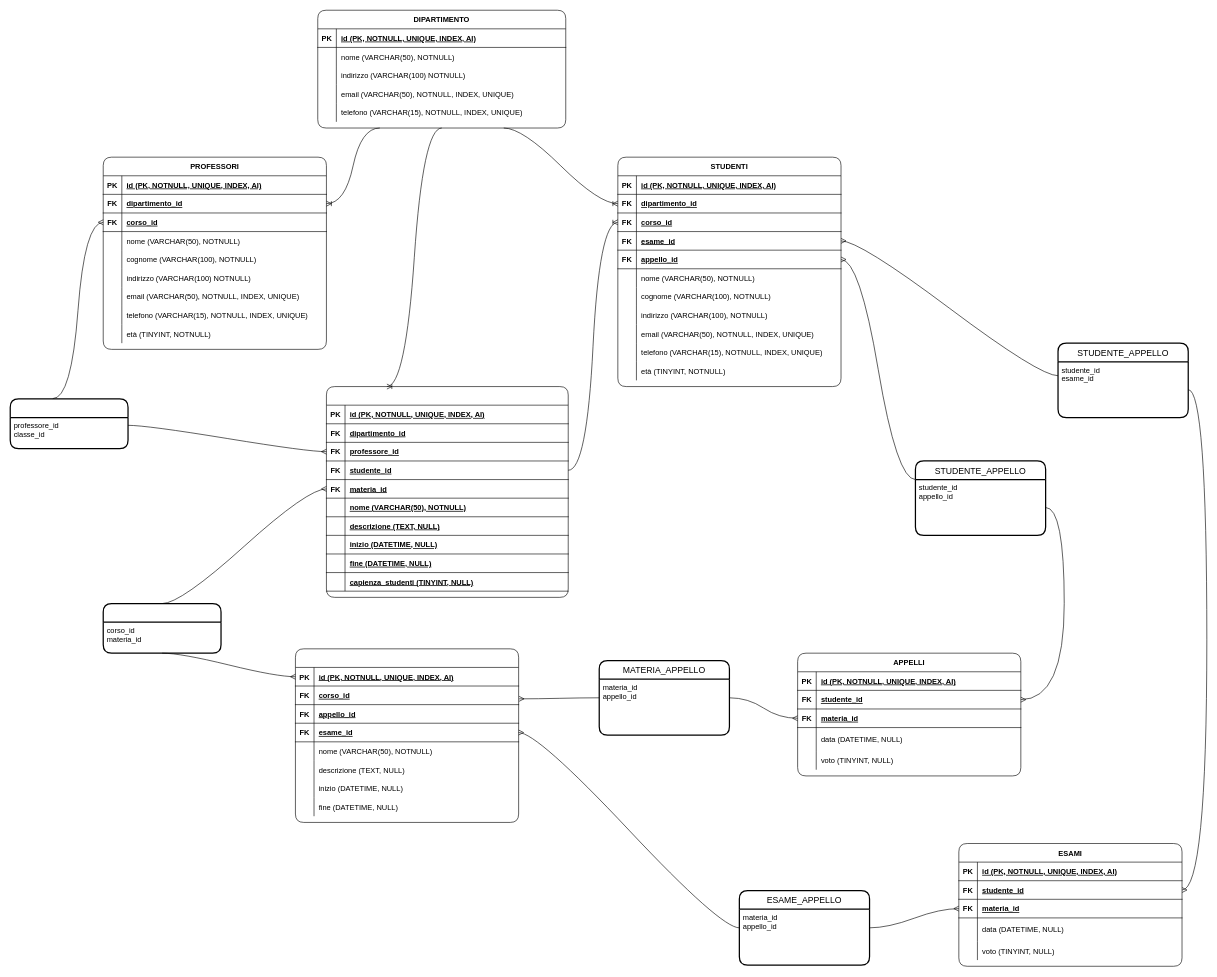
The diagram is 1217 pixels wide and 977 high, and some of its shapes have lost their labels. Each missing label, with the box of its shape:
CORSI: (326, 386, 568, 597)
CORSO_MATERIA: (102, 603, 221, 653)
CORSO_PROFESSORE: (9, 398, 128, 449)
MATERIE: (295, 648, 519, 822)
